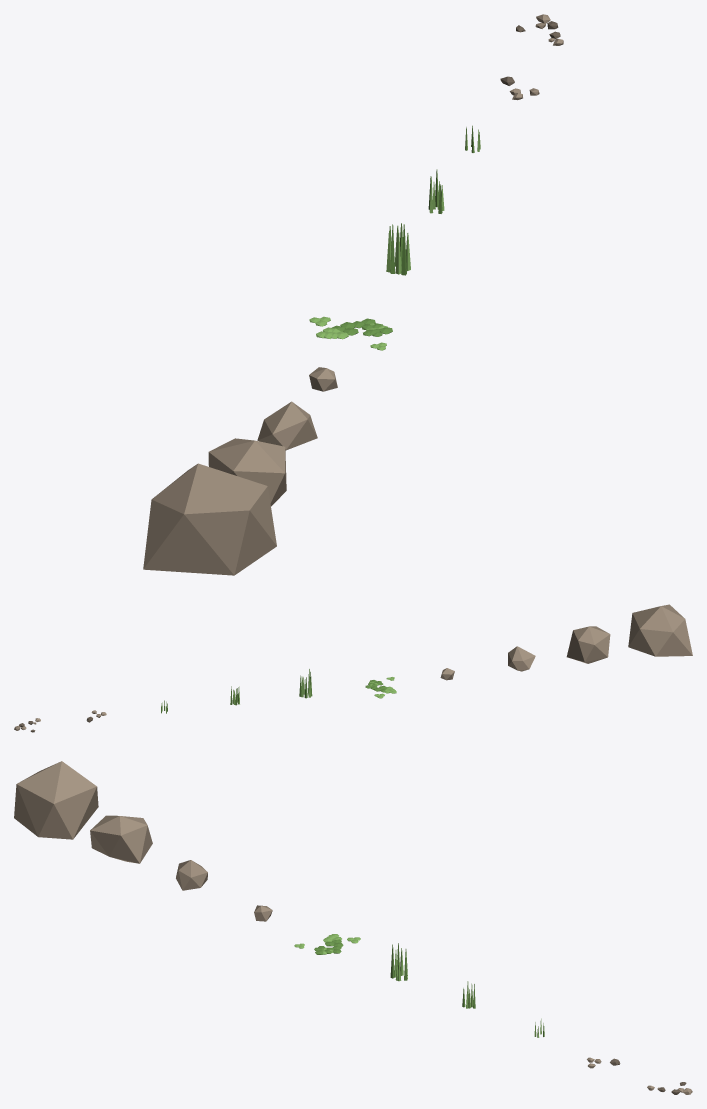
The model's file is AST13b.glb.
3 renders of one model, top to bottom at view 1: azimuth 30°, elevation 25°; view 2: azimuth 150°, elevation 25°; view 3: azimuth 270°, elevation 25°, orthographic. The views are drawn at different scales.
Visible parts, largest first — view 1: AST13b_Boulder_L, AST13b_Boulder_M, AST13b_Boulder_S, AST13b_CloverPatch, AST13b_GrassTuft_L; view 2: AST13b_Boulder_L, AST13b_Boulder_M, AST13b_Boulder_S, AST13b_CloverPatch, AST13b_GrassTuft_L; view 3: AST13b_Boulder_L, AST13b_Boulder_M, AST13b_Boulder_S, AST13b_CloverPatch.
Boxes of the visible parts, bbox=[...] form: AST13b_Boulder_L: bbox=[143, 463, 276, 575]; AST13b_Boulder_M: bbox=[208, 438, 286, 506]; AST13b_Boulder_S: bbox=[257, 401, 317, 450]; AST13b_CloverPatch: bbox=[309, 316, 392, 350]; AST13b_GrassTuft_L: bbox=[386, 223, 410, 275]; AST13b_Boulder_L: bbox=[628, 604, 692, 656]; AST13b_Boulder_M: bbox=[566, 626, 610, 663]; AST13b_Boulder_S: bbox=[508, 646, 535, 671]; AST13b_CloverPatch: bbox=[365, 677, 396, 698]; AST13b_GrassTuft_L: bbox=[299, 669, 312, 698]; AST13b_Boulder_L: bbox=[14, 761, 98, 839]; AST13b_Boulder_M: bbox=[90, 815, 152, 863]; AST13b_Boulder_S: bbox=[176, 860, 207, 890]; AST13b_CloverPatch: bbox=[294, 934, 360, 954].
Size of the model in its own units: 10.75 by 1.21 by 10.8.
10 materials, 10 textured.
